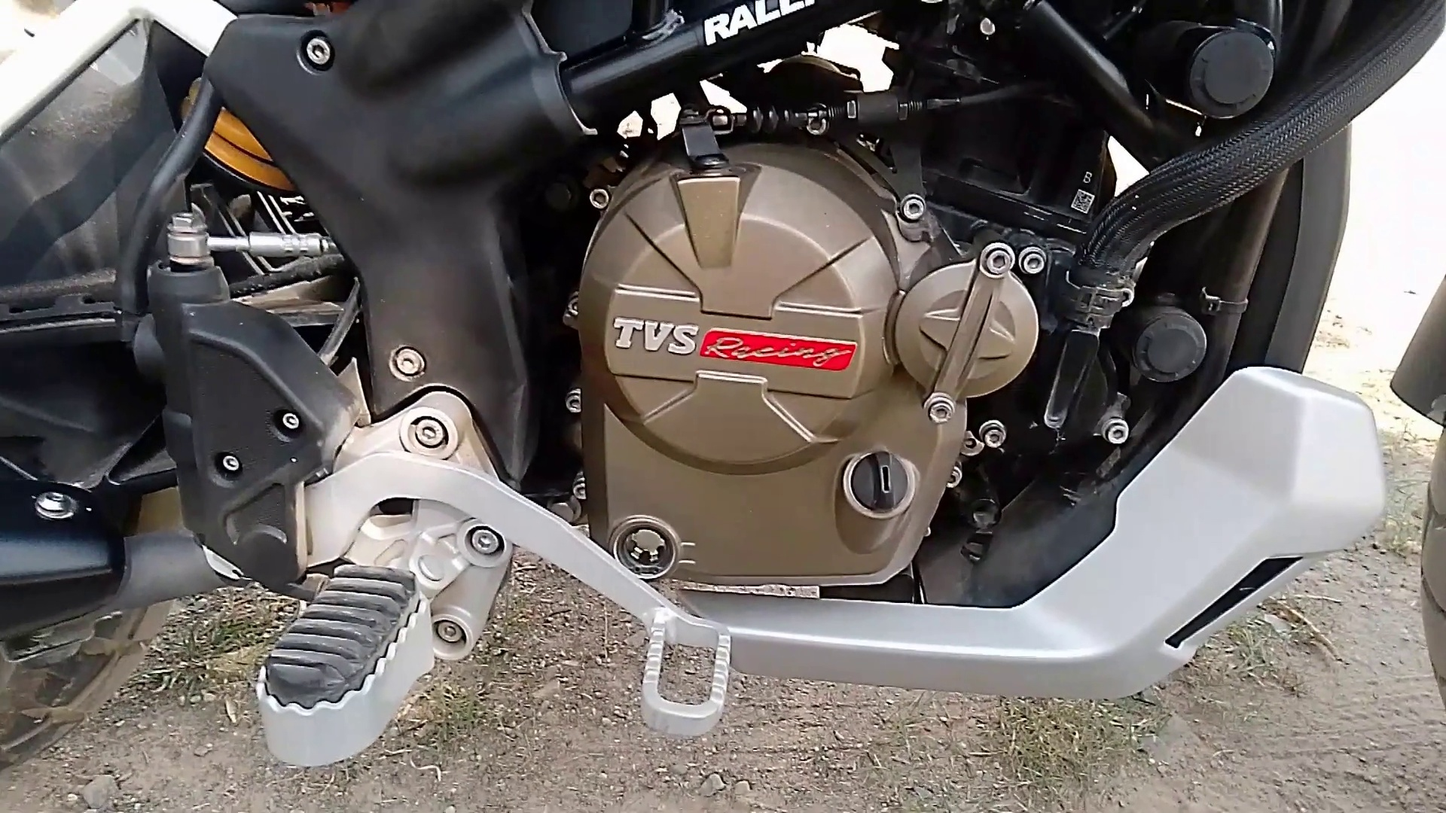bike-engine: (574, 151, 1051, 588)
bike-engine-level: (609, 513, 690, 586)
bike-oil-cap: (828, 448, 918, 552)
